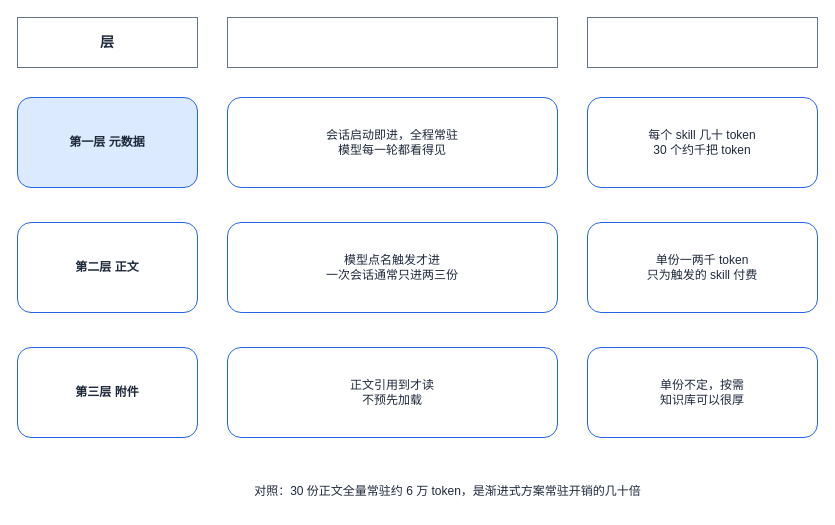
This 835x525 diagram has some shape labels left out. Each missing label, with the centre of its shape:
token 量级: the point at 702,42
什么时候进上下文: the point at 392,42
